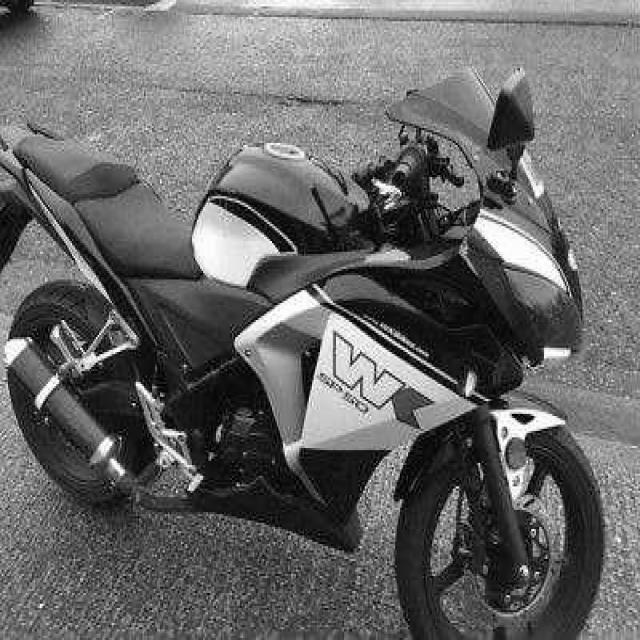Motorcycle: (0, 70, 604, 637)
